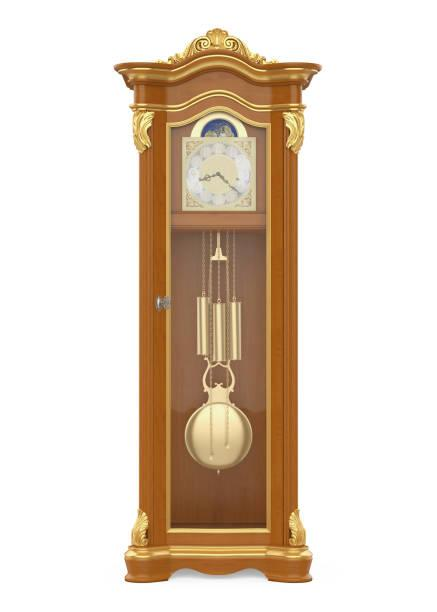clock: (179, 104, 262, 219)
